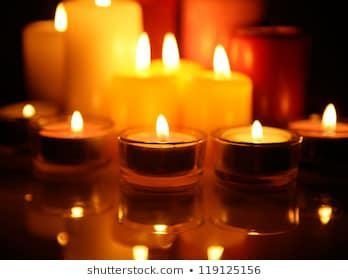fire: (210, 41, 232, 78), (133, 31, 151, 72), (161, 30, 180, 68), (321, 100, 339, 131), (52, 1, 69, 32), (153, 110, 170, 139), (68, 108, 85, 134), (250, 119, 264, 140)
